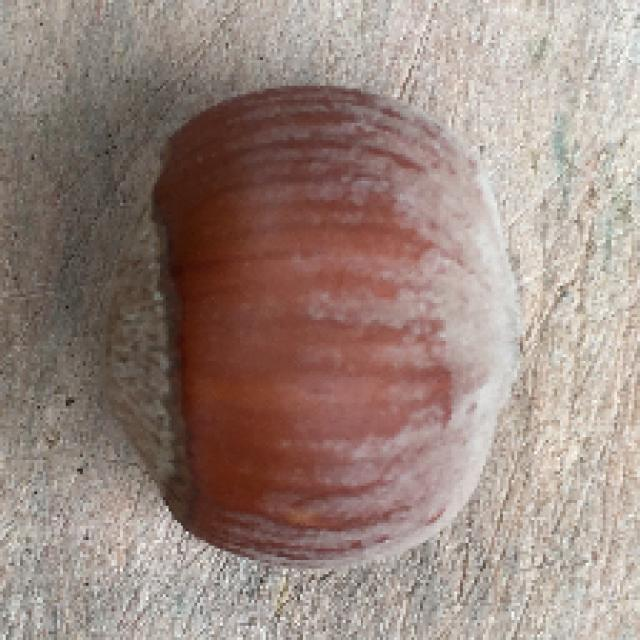qualityHazelnut: (92, 75, 523, 577)
